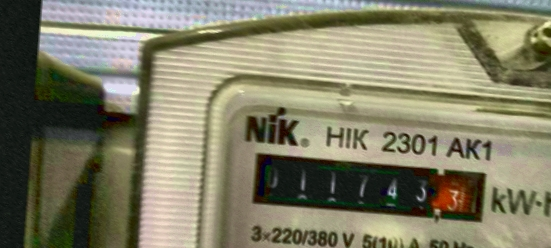0: (264, 162, 280, 191)
1: (325, 167, 339, 195), (296, 164, 308, 192)
3: (413, 176, 429, 204), (444, 187, 460, 213)
4: (383, 174, 399, 202)
7: (354, 169, 371, 198)
screen: (240, 142, 498, 234)
